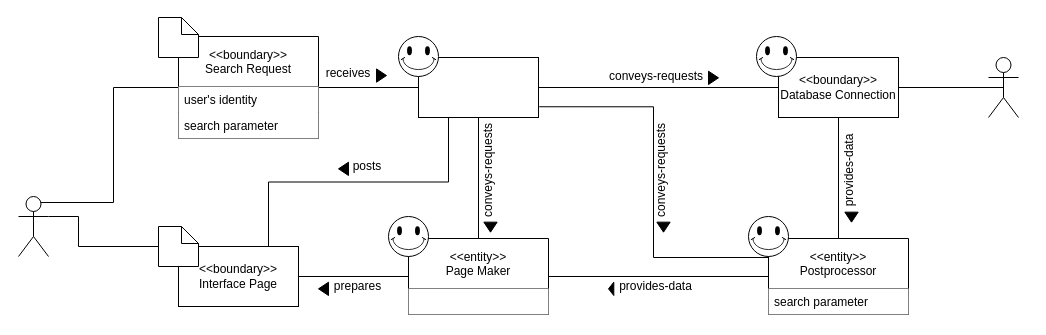
This 1046x335 diagram has some shape labels left out. Here are the shapes that lost their labels. From the top down, the centre of each, then its label:
(478,87): <<control>> Controller
(1003,87): Database
(33,226): Guest
(478,301): records list
